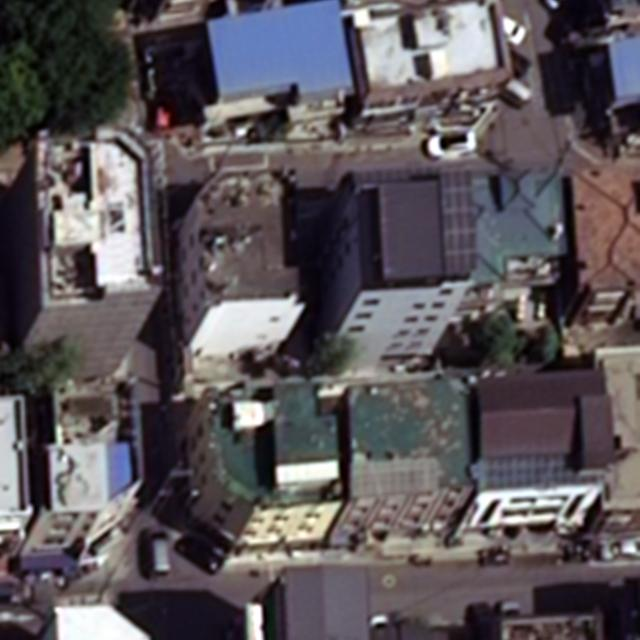panel: (437, 165, 478, 275)
